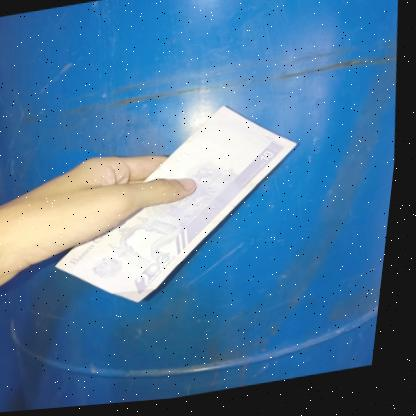ten-back-vef: (47, 97, 315, 317)
